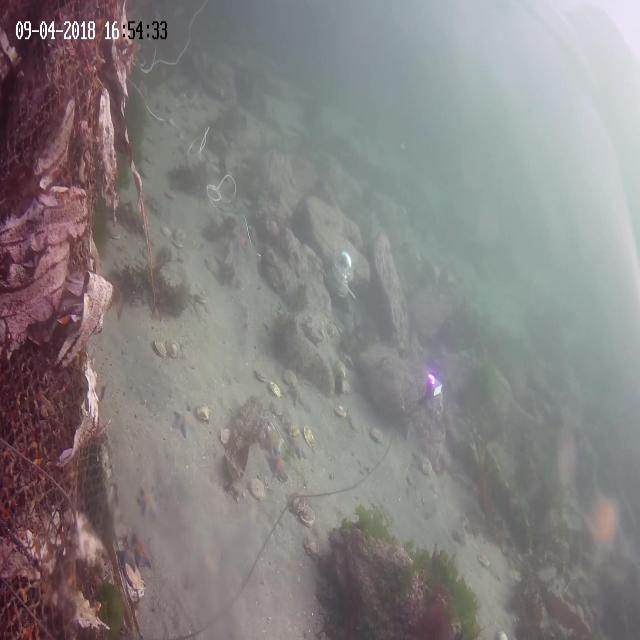scallop: (249, 476, 269, 504), (304, 531, 322, 559), (218, 423, 235, 450), (297, 506, 316, 530), (290, 490, 306, 517), (204, 252, 222, 276), (368, 424, 384, 450), (165, 338, 182, 362), (450, 524, 468, 546), (252, 368, 270, 388), (194, 403, 210, 425), (172, 225, 185, 251), (333, 402, 348, 424), (152, 336, 167, 356), (267, 379, 282, 398), (286, 418, 300, 434), (160, 224, 173, 239)
starfish: (582, 484, 622, 560), (556, 430, 578, 494), (132, 530, 154, 571), (137, 486, 161, 520), (262, 422, 284, 458), (170, 406, 193, 440), (267, 454, 288, 487), (285, 381, 306, 410), (288, 430, 308, 459), (118, 542, 136, 574), (232, 230, 248, 253)
